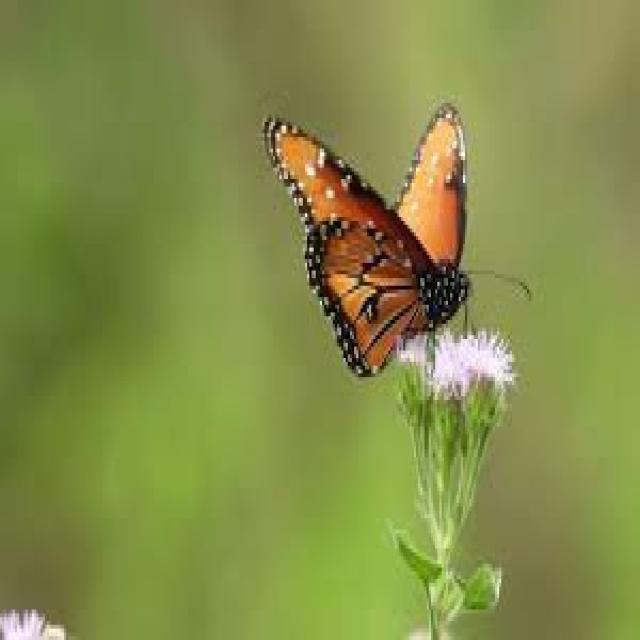butterfly: (265, 92, 495, 346)
